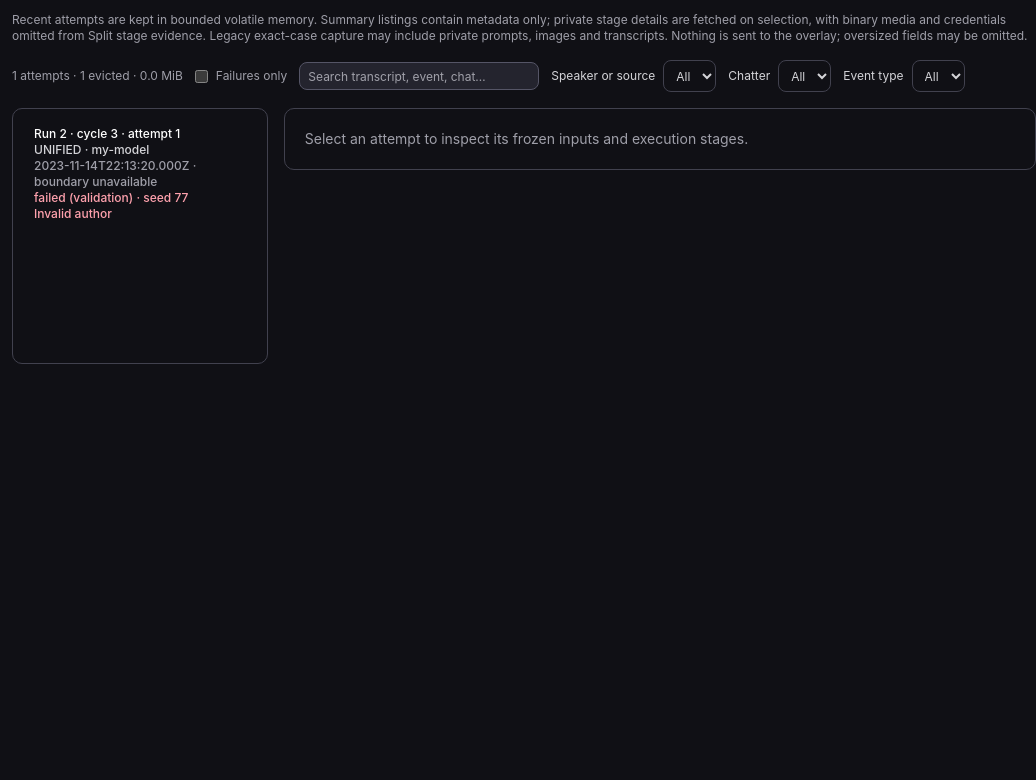
it: fetches private attempt data only after selection and distinguishes each execution stage
The image size is (1036, 780).
Click the button "Run 2 · cycle 3 · attempt 1".
click(140, 174)  # box [21,117,259,231]
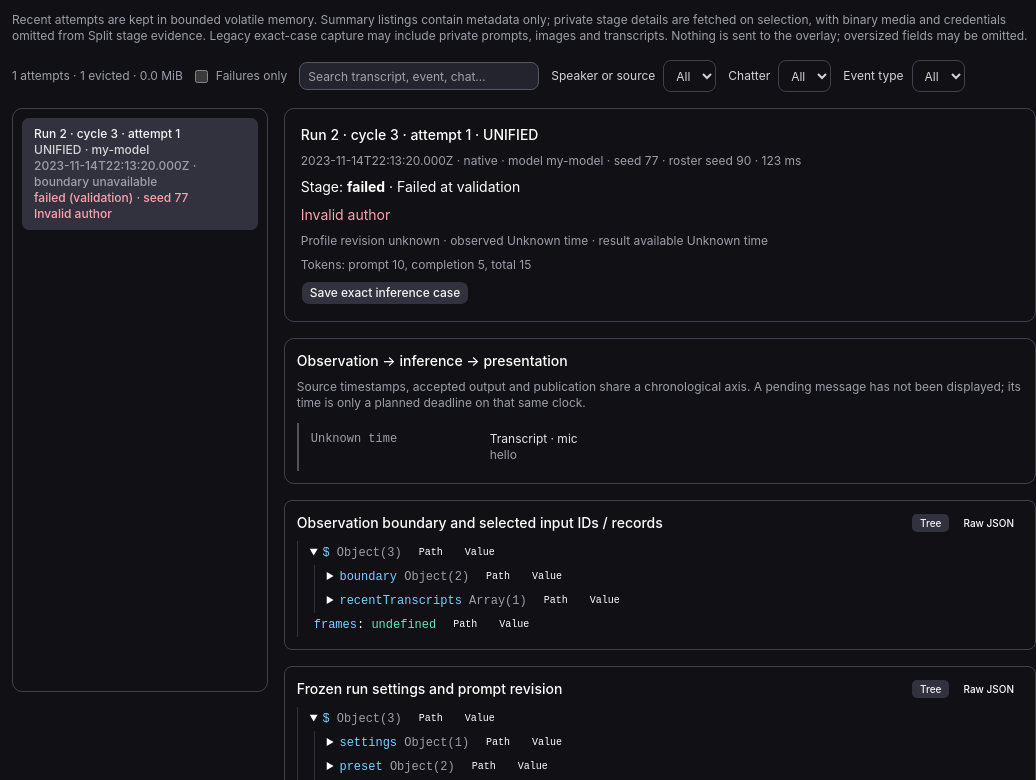
Expected: the text "Stage: failed · Failed at validation" is shown, [301,178,520,195]
